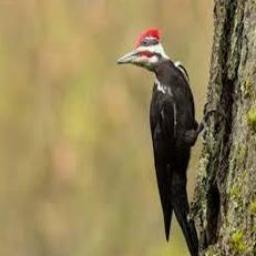Woodpecker: (117, 29, 219, 256)
